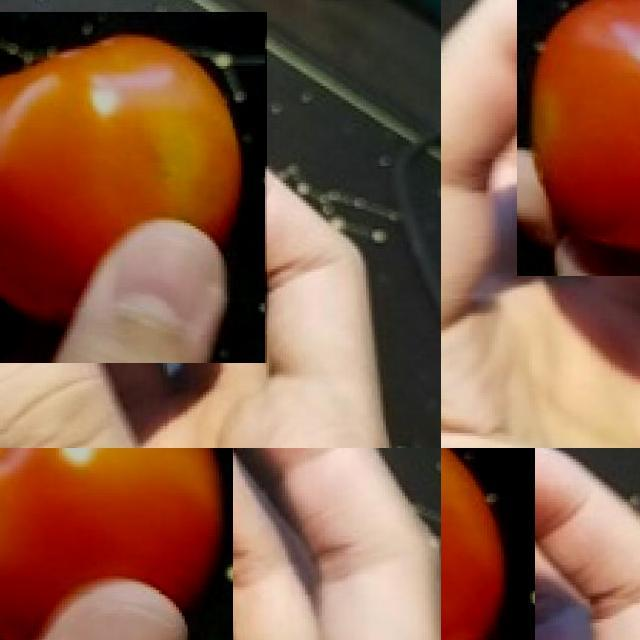Fresh Tomato: (0, 12, 267, 362), (0, 448, 233, 640), (517, 0, 640, 275), (441, 448, 534, 640)
